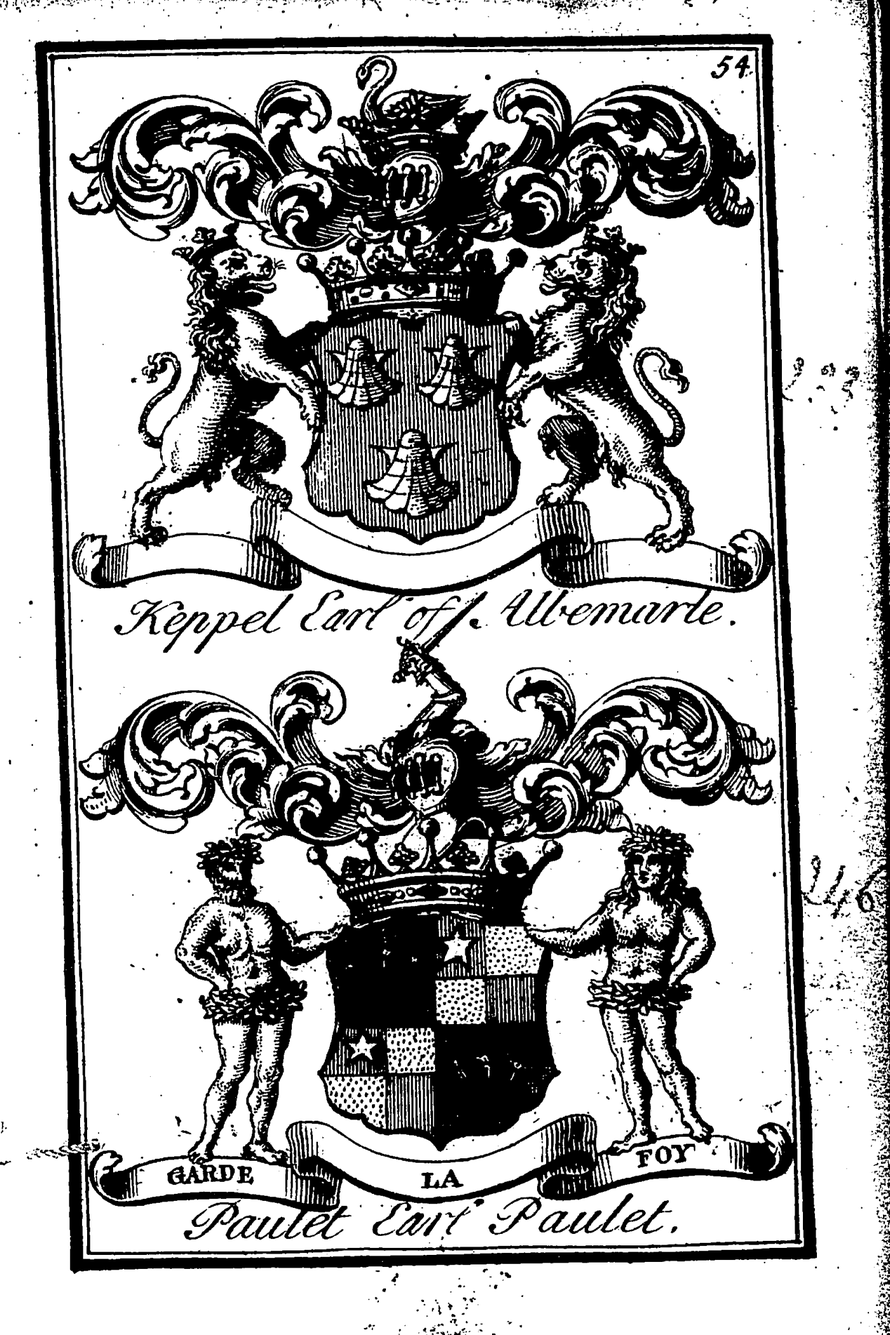coat_of_arms: (78, 654, 786, 1238), (69, 65, 770, 645)
